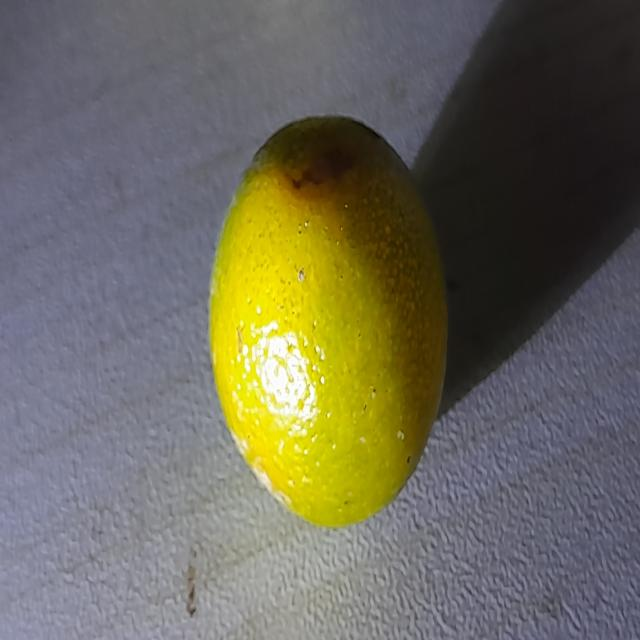greening: (200, 112, 454, 542)
